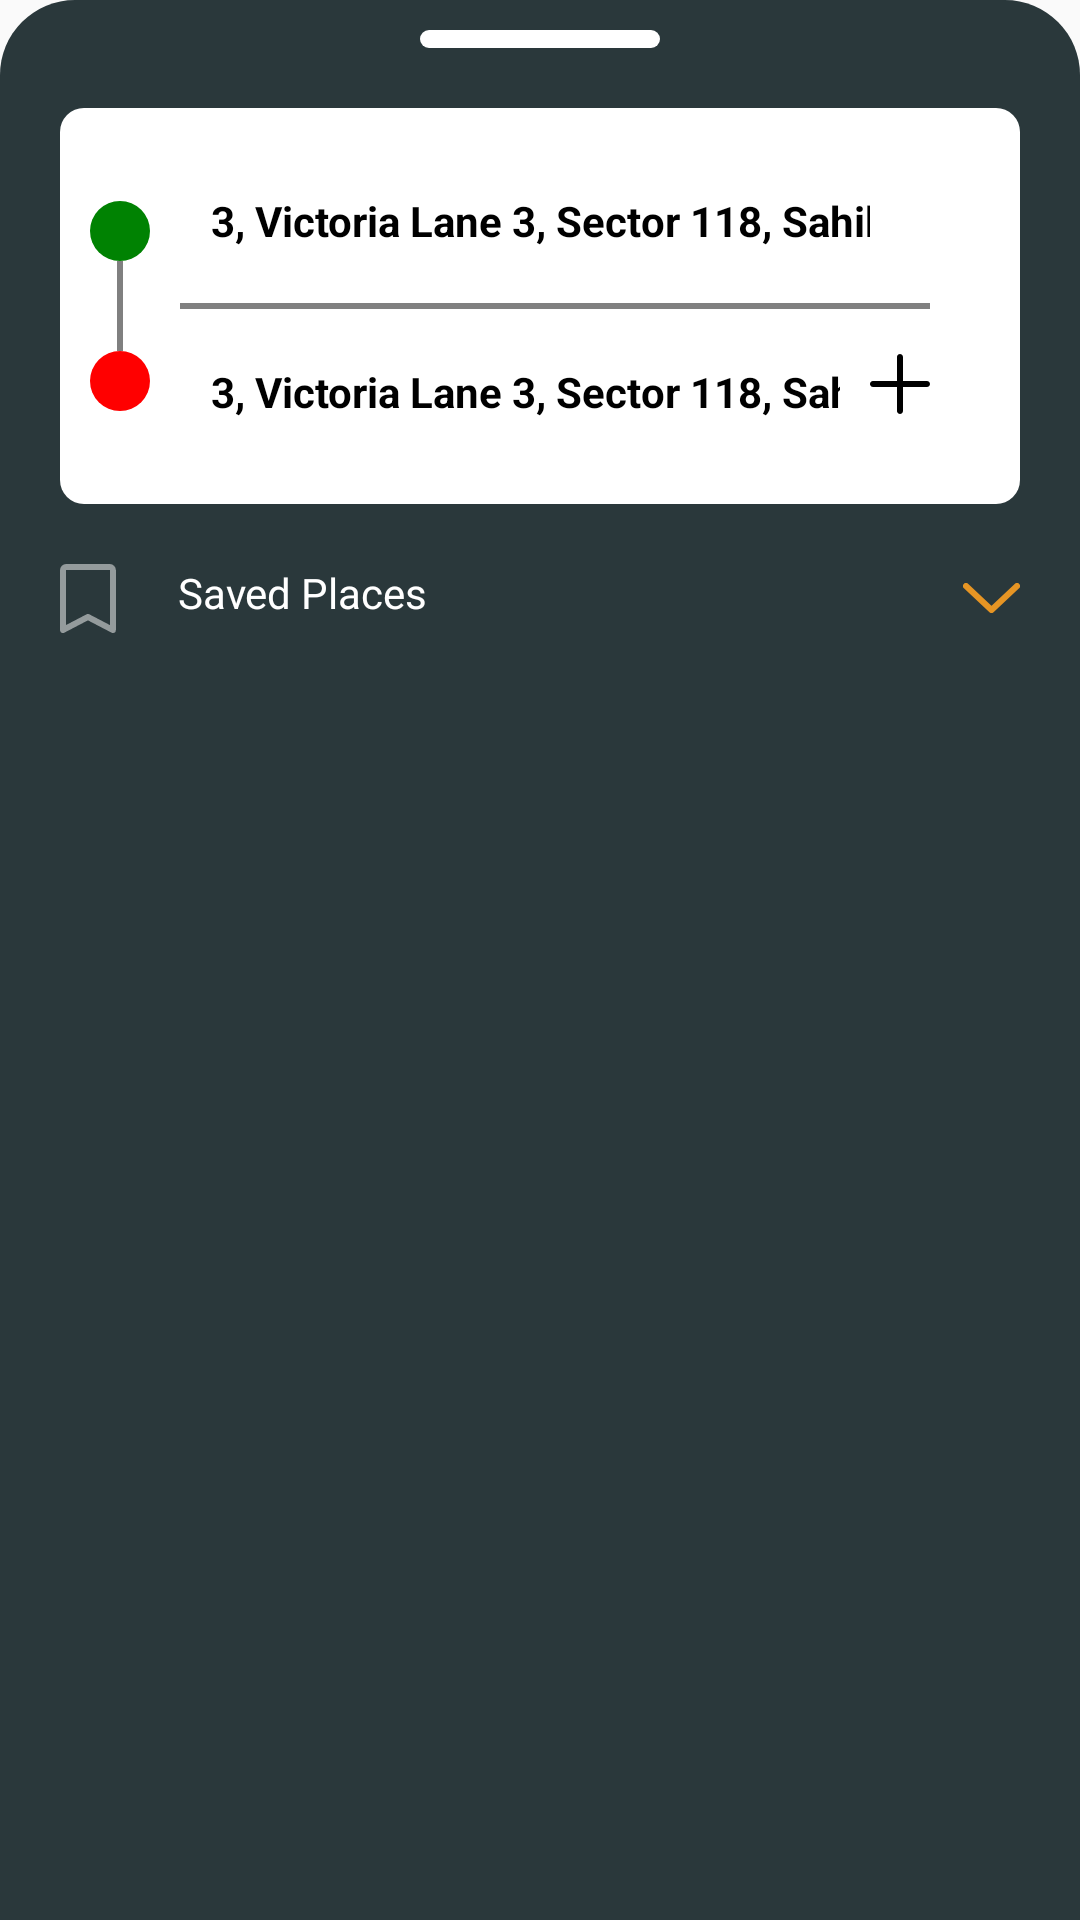

Screen size 1080×1920. Icon name, then its center in pixels as (x=x, y=y):
down arrow: (x=991, y=598)
